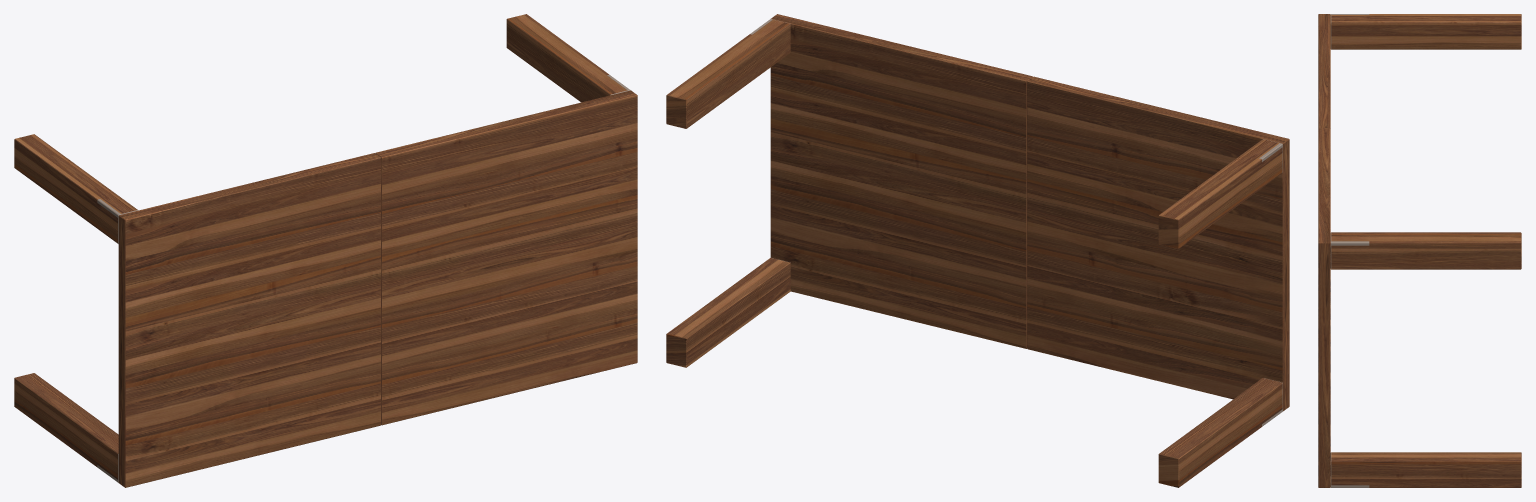
The model's file is table.obj.
3 views of the same model, side by side, from view 1: azimuth 30°, elevation 25°; view 2: azimuth 150°, elevation 25°; view 3: azimuth 270°, elevation 25° (orthographic). The views are drawn at different scales.
Visible parts, largest first — view 1: Rectangle001, Rectangle003, Rectangle002, Rectangle004; view 2: Rectangle001, Rectangle005, Rectangle004, Rectangle002, Rectangle003; view 3: Rectangle004, Rectangle003, Rectangle005, Rectangle001, Rectangle002, Line003.
Part boxes in pixels (<box>): Rectangle001: <box>118,90,637,487</box>; Rectangle003: <box>14,134,137,243</box>; Rectangle002: <box>14,373,118,479</box>; Rectangle004: <box>506,14,627,102</box>; Rectangle001: <box>770,14,1289,411</box>; Rectangle005: <box>666,258,790,367</box>; Rectangle004: <box>666,19,790,128</box>; Rectangle002: <box>1158,378,1282,487</box>; Rectangle003: <box>1158,139,1282,248</box>; Rectangle004: <box>1331,233,1521,269</box>; Rectangle003: <box>1331,14,1521,49</box>; Rectangle005: <box>1331,452,1521,487</box>; Rectangle001: <box>1318,14,1330,487</box>; Rectangle002: <box>1331,232,1521,233</box>; Line003: <box>1330,234,1369,269</box>.
Size of the model in its own units: 78.74 by 39.37 by 29.53.
